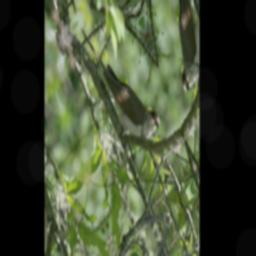Cuckoo: (79, 0, 162, 165)
